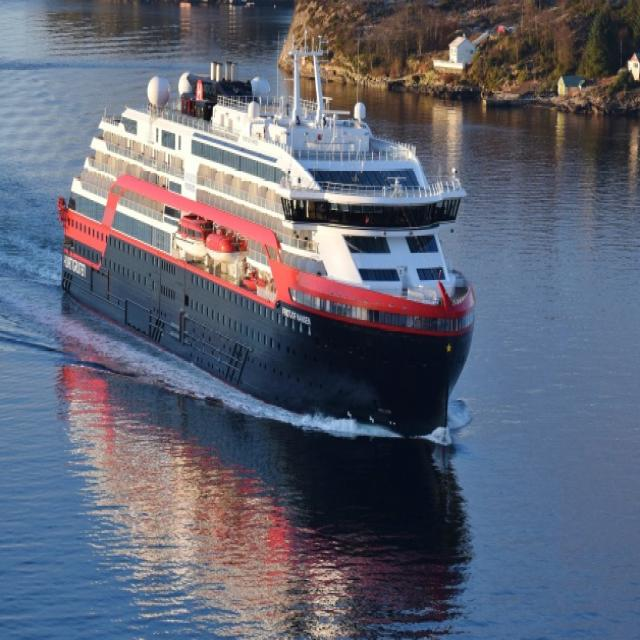cruises: (54, 31, 483, 457)
